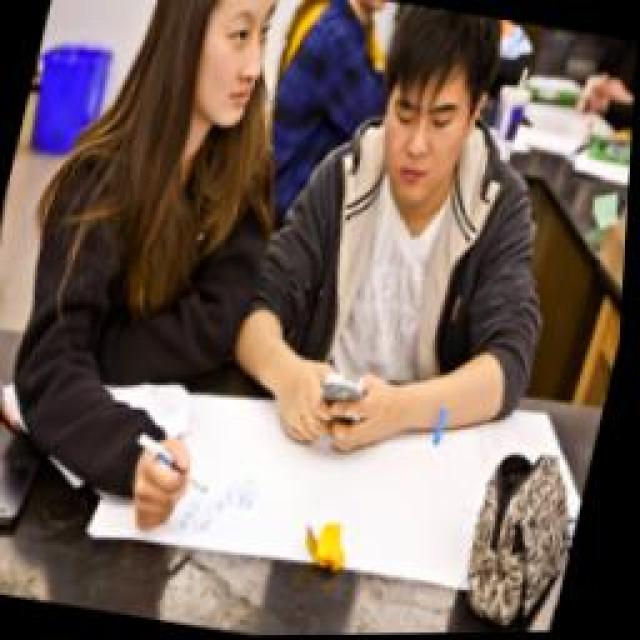phone: (215, 0, 613, 488)
